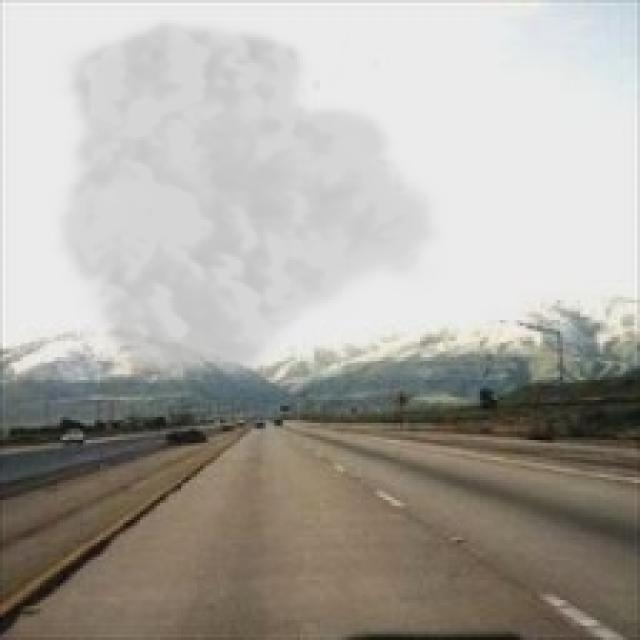smoke: (51, 14, 446, 386)
